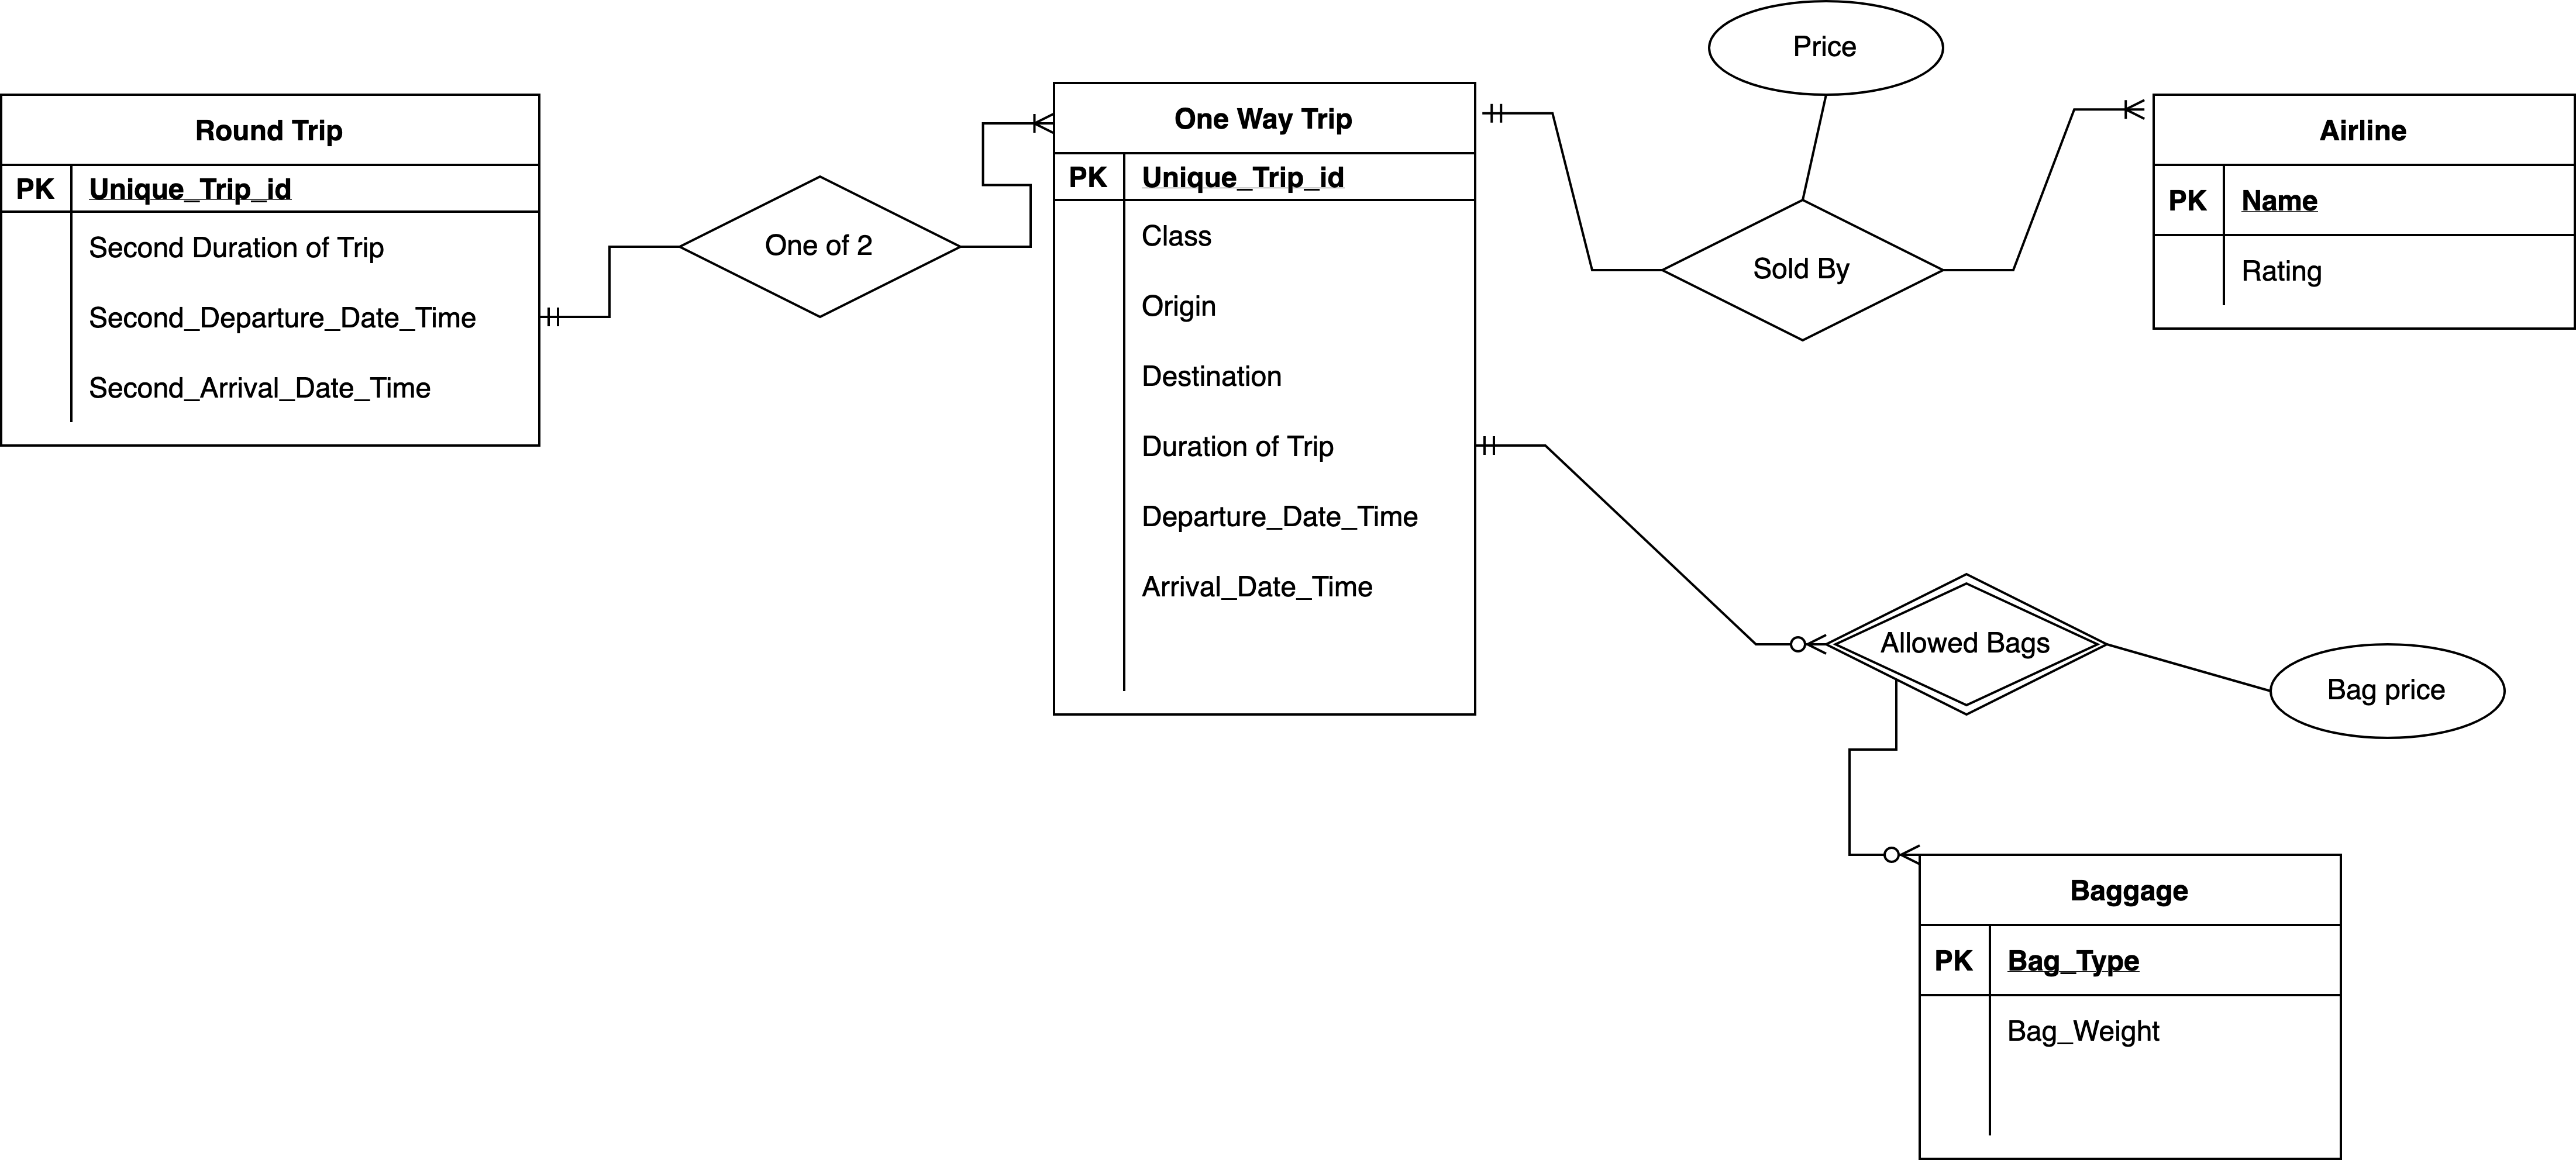entity: (1056, 84, 1480, 718), (0, 97, 537, 449), (1924, 853, 2343, 1160), (2150, 92, 2576, 332)
ident_rel: (1805, 568, 2103, 715)
many: (1758, 631, 1832, 661), (2072, 95, 2152, 122), (984, 108, 1056, 136), (1848, 845, 1920, 866)
one: (1475, 434, 1546, 458), (539, 304, 609, 325), (1475, 104, 1552, 122)
rel: (682, 176, 954, 320), (1664, 202, 1943, 342)
rel_attr: (1707, 2, 1945, 99), (2270, 642, 2507, 739)
